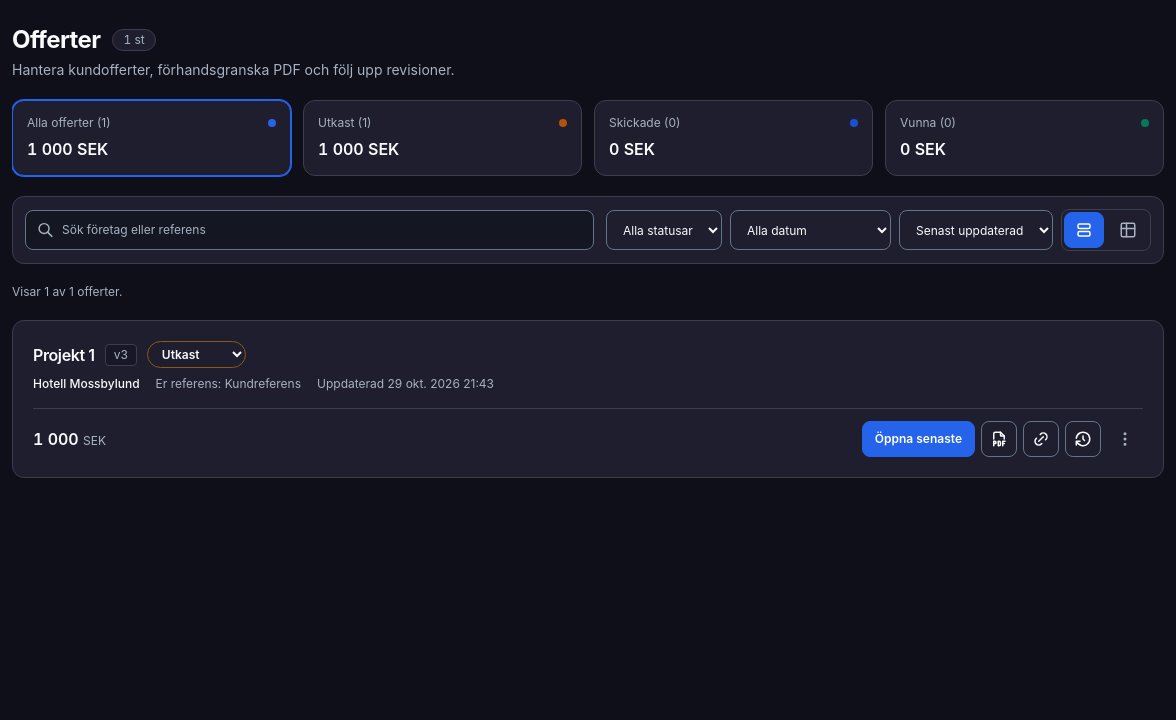
it: Offerter redesign › retries revision failures instead of leaving an endless loading message
Click the button named "Visa revisioner" at (1083, 439), box [1065, 421, 1101, 457]
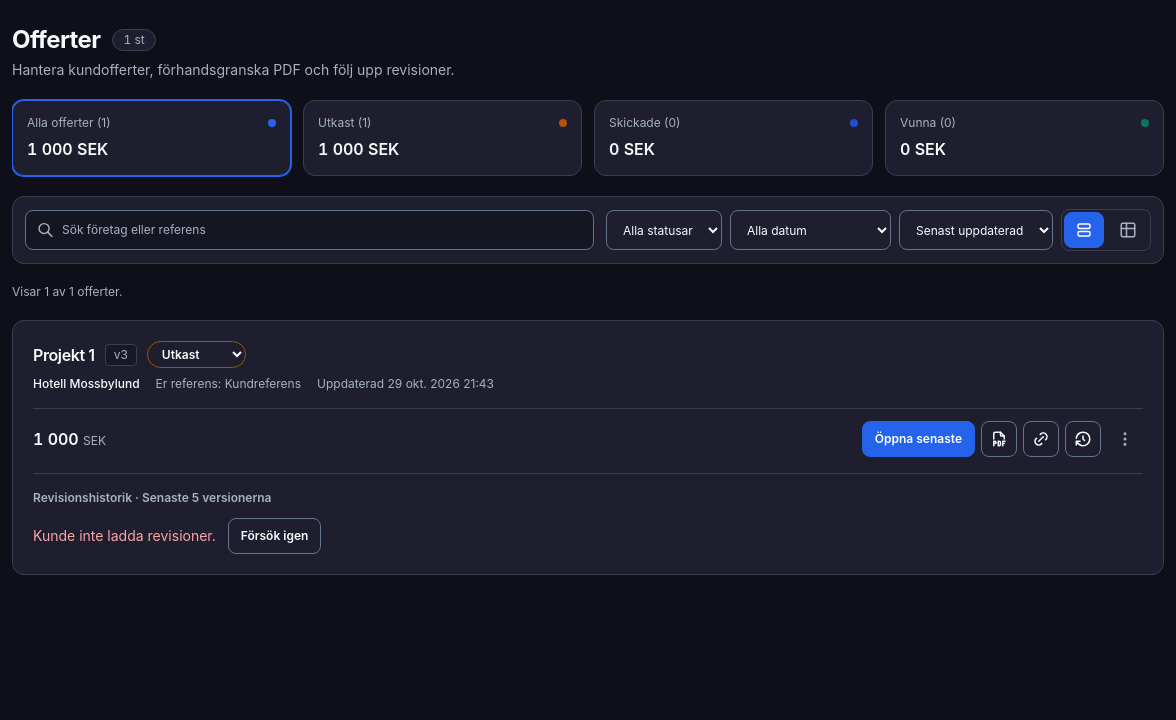
Now the message "Kunde inte ladda revisioner. Försök igen" is shown, box [33, 518, 321, 554]
Click the button "Försök igen" at (275, 536), box [228, 518, 321, 554]
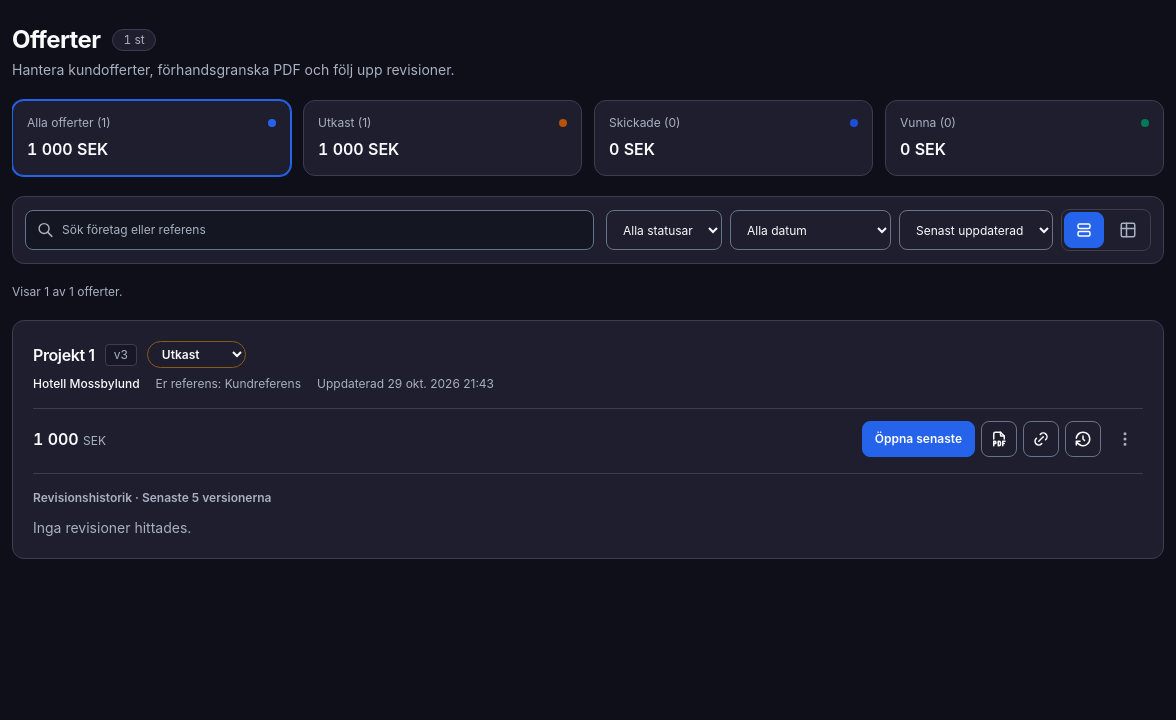
Now the text "Inga revisioner hittades." is shown, box [33, 519, 191, 536]
